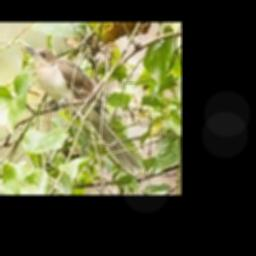Cuckoo: (26, 45, 142, 173)
